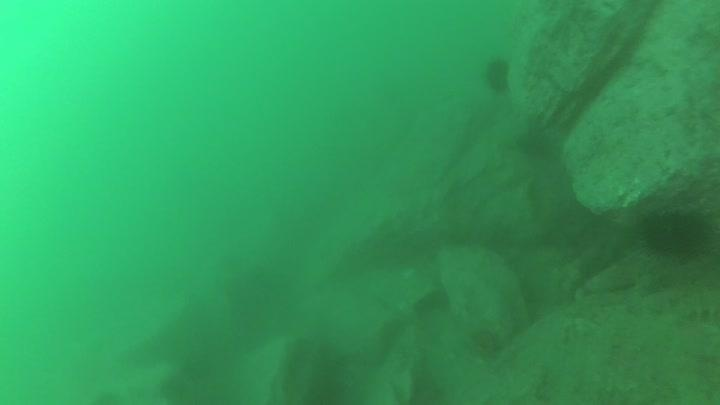echinus: (637, 203, 713, 261), (480, 55, 514, 97)
holothurian: (639, 280, 720, 323)
